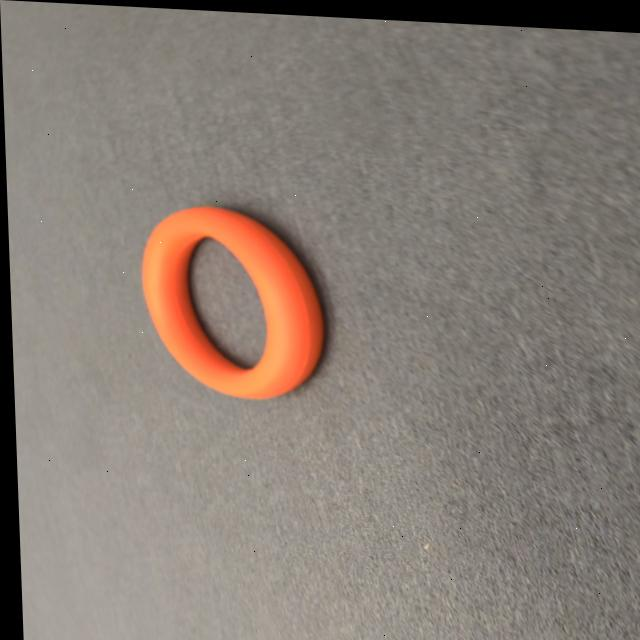note: (144, 201, 330, 394)
